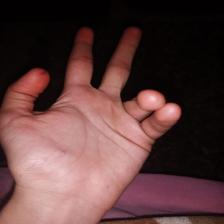three: (7, 26, 182, 200)
